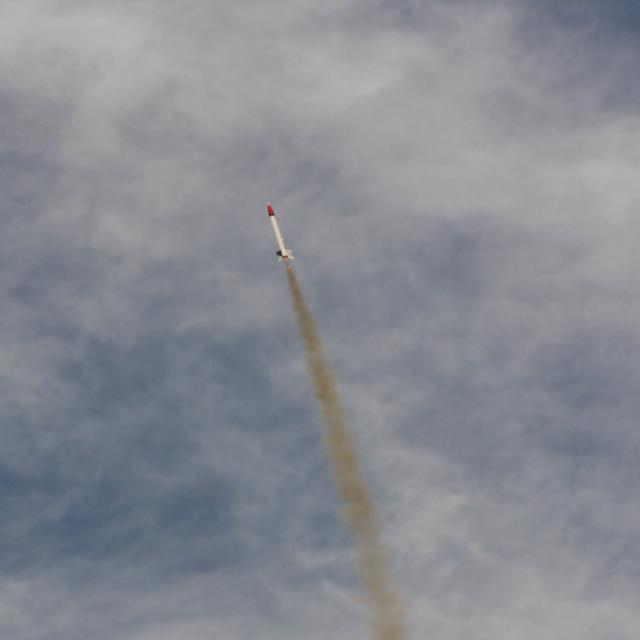Rocket: (266, 201, 295, 263)
